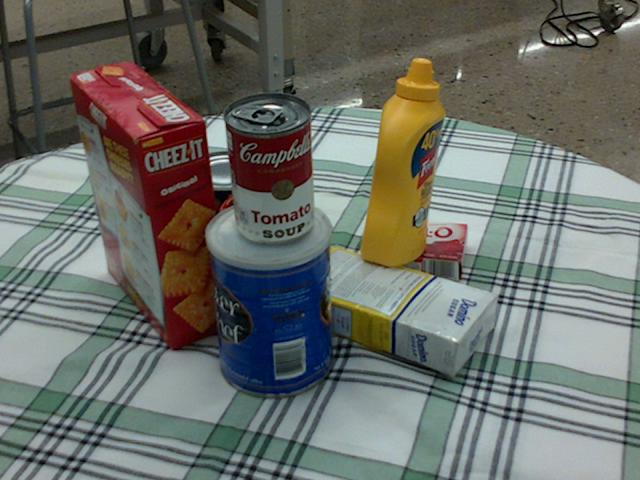cracker_box: (68, 64, 230, 347)
gelatin_box: (372, 217, 466, 283)
master_chef_can: (204, 197, 334, 398)
mug: (209, 186, 310, 297)
mustard_bottle: (360, 59, 444, 266)
potted_meat_can: (158, 171, 276, 261)
sugar_box: (286, 245, 498, 372)
tomato_soup_can: (221, 91, 312, 242)
tuna_fish_can: (184, 151, 266, 217)
